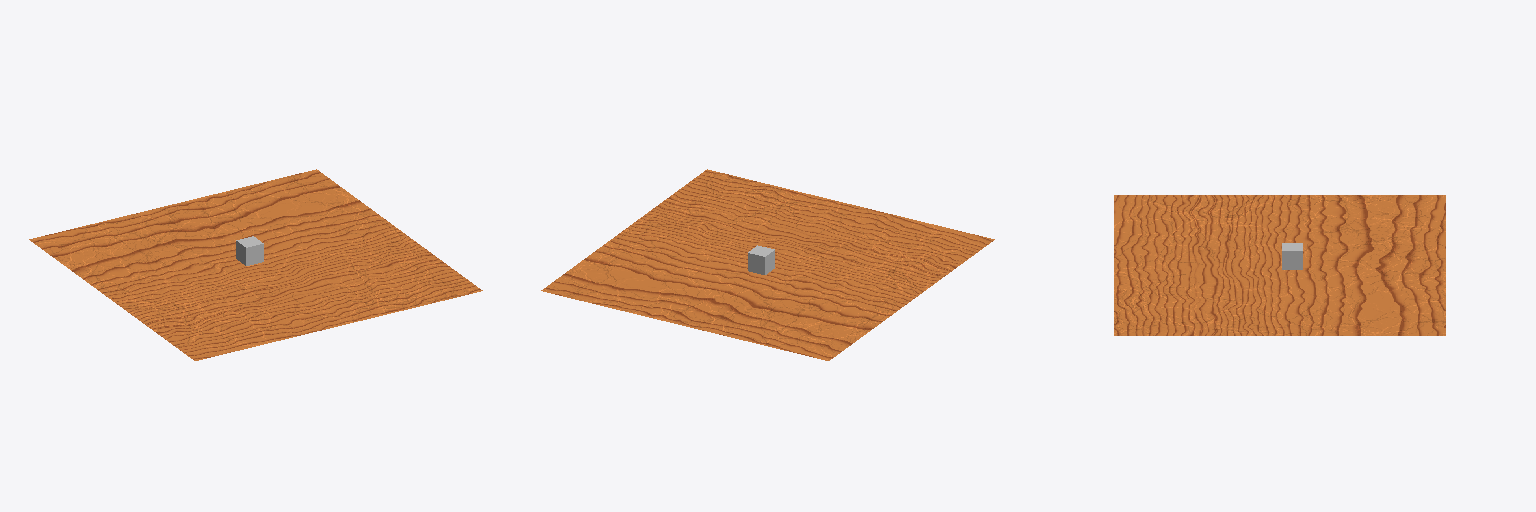
3 views of the same model, side by side, from view 1: azimuth 30°, elevation 25°; view 2: azimuth 150°, elevation 25°; view 3: azimuth 270°, elevation 25° (orthographic).
Visible parts, largest first — view 1: Plane, Cube.001; view 2: Plane, Cube.001; view 3: Plane, Cube.001.
Boxes of the visible parts, x1,y1,x2,y2 form: Plane: [29, 169, 482, 360]; Cube.001: [236, 236, 263, 265]; Plane: [541, 169, 994, 360]; Cube.001: [748, 245, 774, 274]; Plane: [1114, 195, 1445, 335]; Cube.001: [1282, 243, 1302, 269].
Size of the model in its own units: 32.7 by 2.02 by 32.7.
2 materials, 1 textured.